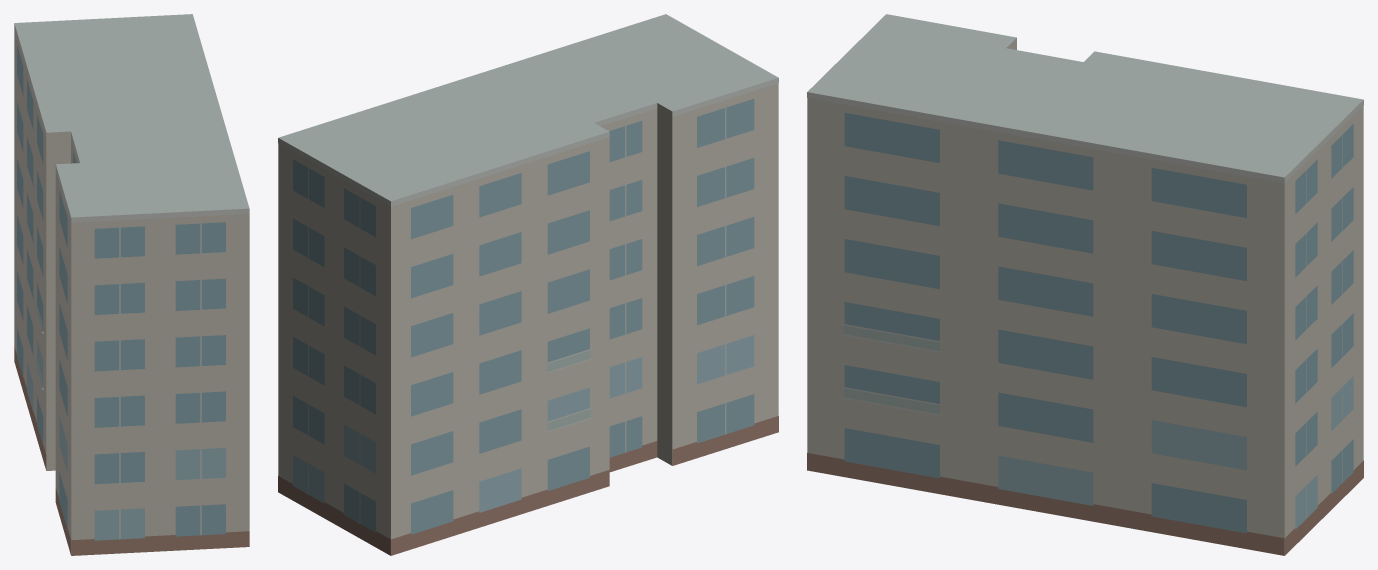
Rendered from survey-upis-32535603.glb.
The picture shows the model from 3 angles, left to right: view 1: azimuth 30°, elevation 25°; view 2: azimuth 150°, elevation 25°; view 3: azimuth 270°, elevation 25°; orthographic projection. The views are drawn at different scales.
Parts seen in each view (by area): view 1: survey-upis-32535603.tmp; view 2: survey-upis-32535603.tmp; view 3: survey-upis-32535603.tmp.
Boxes of the visible parts, x1,y1,x2,y2 form: survey-upis-32535603.tmp: (14,14,249,555); survey-upis-32535603.tmp: (278,14,778,555); survey-upis-32535603.tmp: (807,14,1363,555).
Bounding box in the file's own units: 14.75 × 15.9 × 21.21.
